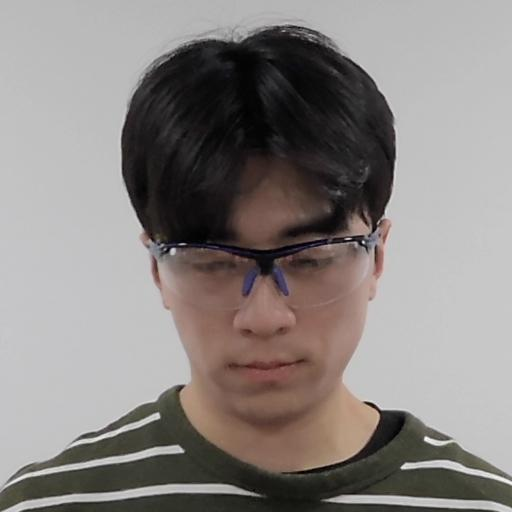glasses: (105, 16, 411, 412)
